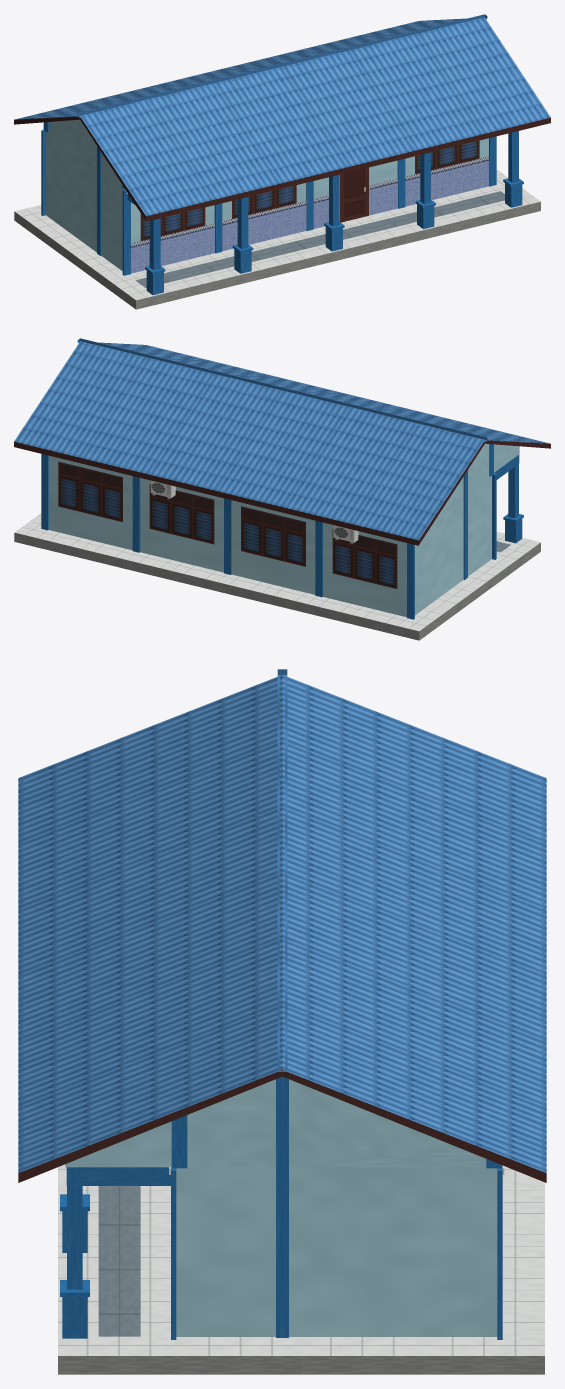
The model's file is ruang_guru_web.glb.
3 views of the same model, one above another, from view 1: azimuth 30°, elevation 25°; view 2: azimuth 150°, elevation 25°; view 3: azimuth 270°, elevation 25° (orthographic). The views are drawn at different scales.
Visible parts, largest first — view 1: Ruang_Guru; view 2: Ruang_Guru; view 3: Ruang_Guru.
Boxes of the visible parts, box(x1,y1,x2,y2) form: Ruang_Guru: box(14, 14, 550, 309); Ruang_Guru: box(14, 338, 550, 640); Ruang_Guru: box(18, 669, 546, 1374).
Bounding box in the file's own units: 15.58 × 5.65 × 8.76.
Materials: 1 (1 with a texture image).
